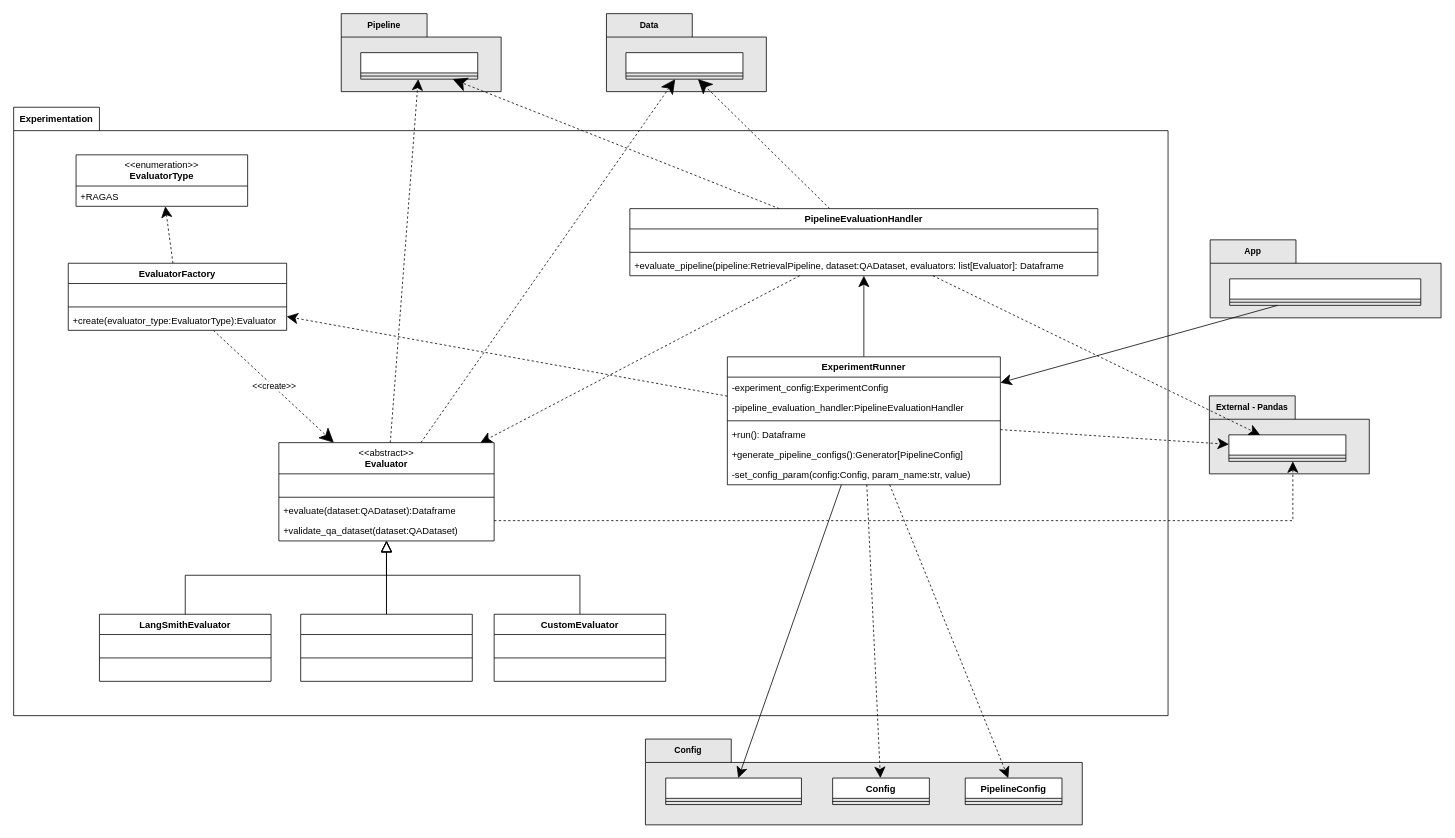
The diagram is 1455 pixels wide and 838 high, and some of its shapes have lost their labels. The centre of each missing label's shape, as x and y in pixels:
Dataframe: pixel 1287 447
ExperimentConfig: pixel 733 791
ExperimentRunCommandHandler: pixel 1325 291
QADataset: pixel 684 65
RagasEvaluator: pixel 386 647
RetrievalPipeline: pixel 419 65
